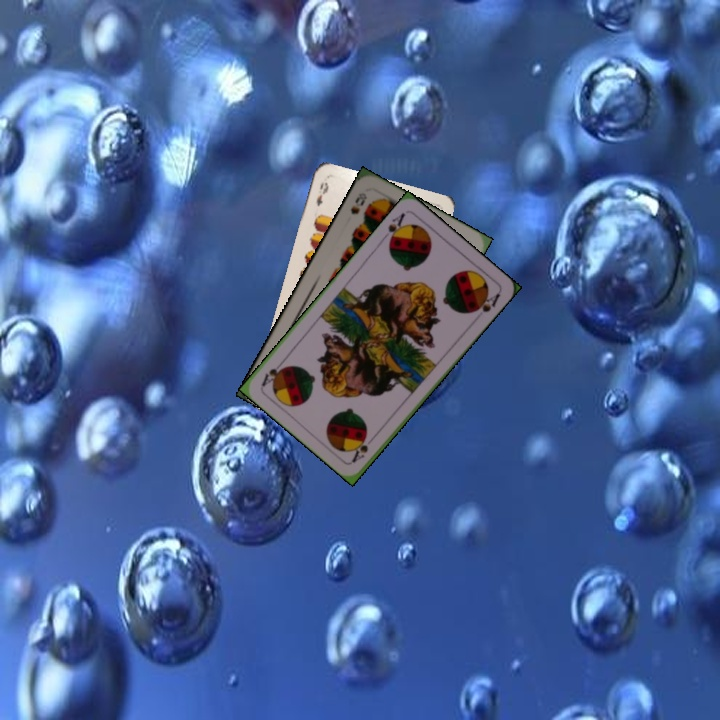E9: (312, 178, 331, 209)
S8: (346, 188, 369, 217)
SA: (378, 209, 409, 247), (348, 431, 379, 465)
